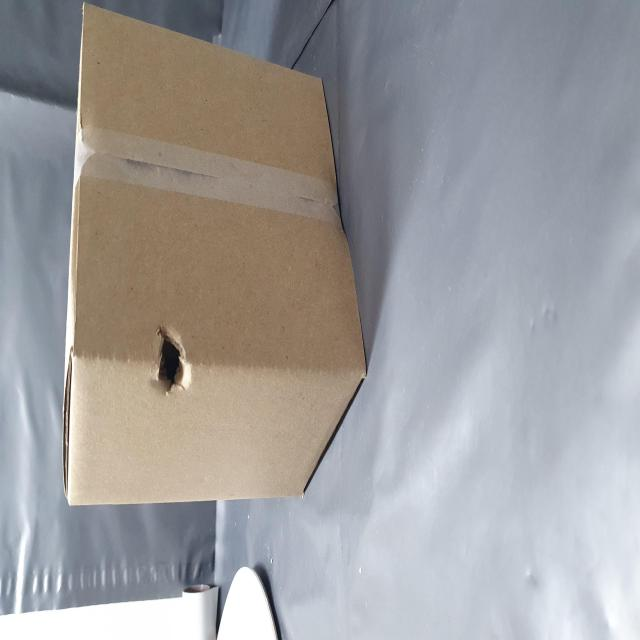damaged: (139, 260, 185, 348)
